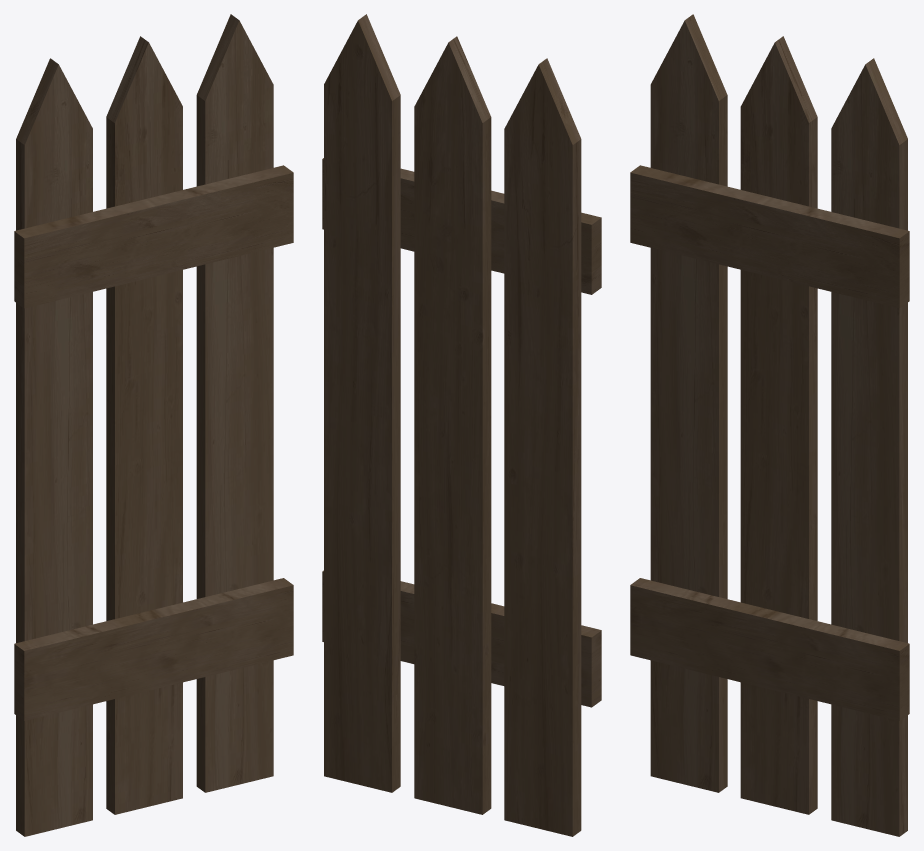
Rendered from fence.obj.
3 views of the same model, side by side, from view 1: azimuth 30°, elevation 25°; view 2: azimuth 150°, elevation 25°; view 3: azimuth 330°, elevation 25° (orthographic).
Visible parts, largest first — view 1: Cube.002, Cube.001_Cube.007, Cube.004_Cube.008; view 2: Cube.002, Cube.001_Cube.007, Cube.004_Cube.008; view 3: Cube.002, Cube.001_Cube.007, Cube.004_Cube.008.
Part boxes in pixels (<box>): Cube.002: <box>16,14,273,836</box>; Cube.001_Cube.007: <box>14,165,293,308</box>; Cube.004_Cube.008: <box>14,578,293,720</box>; Cube.002: <box>324,14,581,836</box>; Cube.001_Cube.007: <box>322,158,601,294</box>; Cube.004_Cube.008: <box>322,570,601,707</box>; Cube.002: <box>650,14,907,836</box>; Cube.001_Cube.007: <box>630,165,909,308</box>; Cube.004_Cube.008: <box>630,578,909,720</box>.
Size of the model in its own units: 1.49 by 4.04 by 0.1783.
